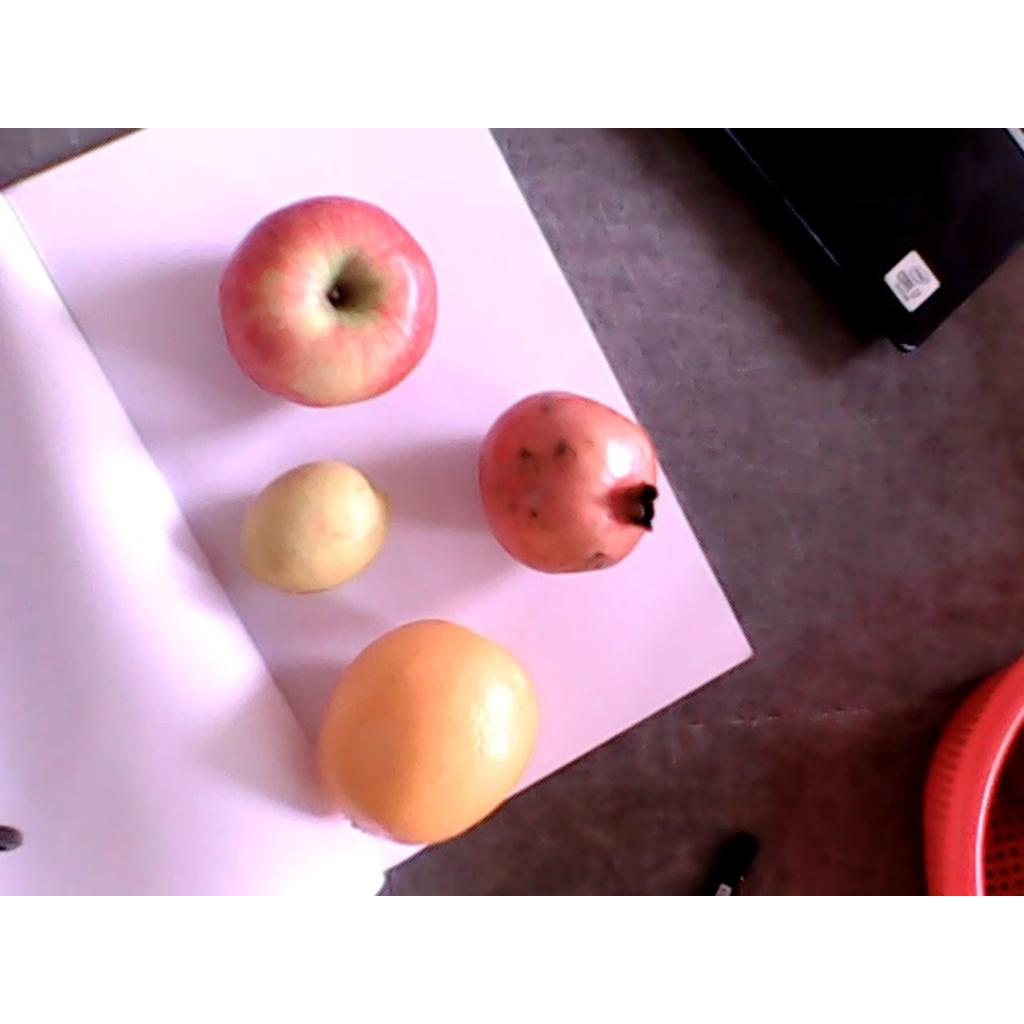apple: (218, 193, 437, 408)
lemon: (238, 460, 394, 595)
orange: (315, 620, 543, 844)
pomegranate: (477, 389, 660, 575)
